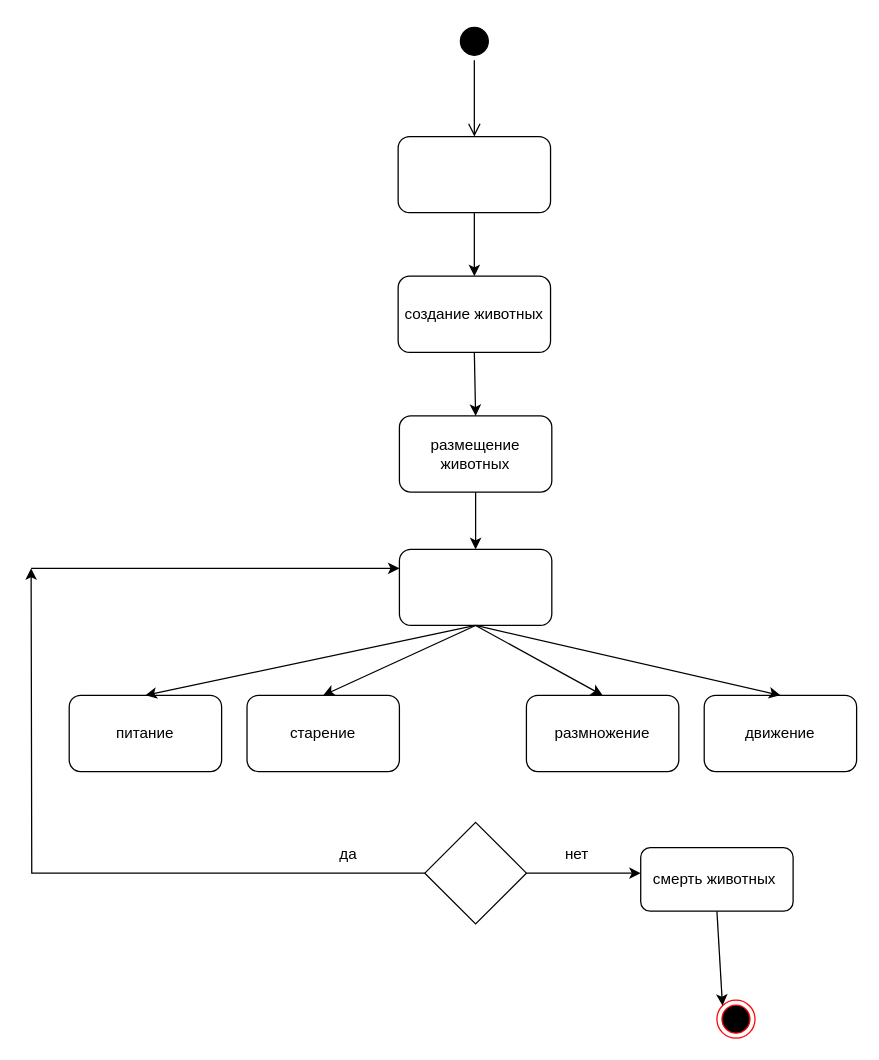
Some shapes in this 879 by 1060 pixel diagram are drawn without their labels. Here are the shapes that lost their labels. From the top down, the centre of each, then its label:
point (474, 174): загрузка состояния симуляции из файла
point (475, 586): шаг симуляции
point (475, 872): животное живо
